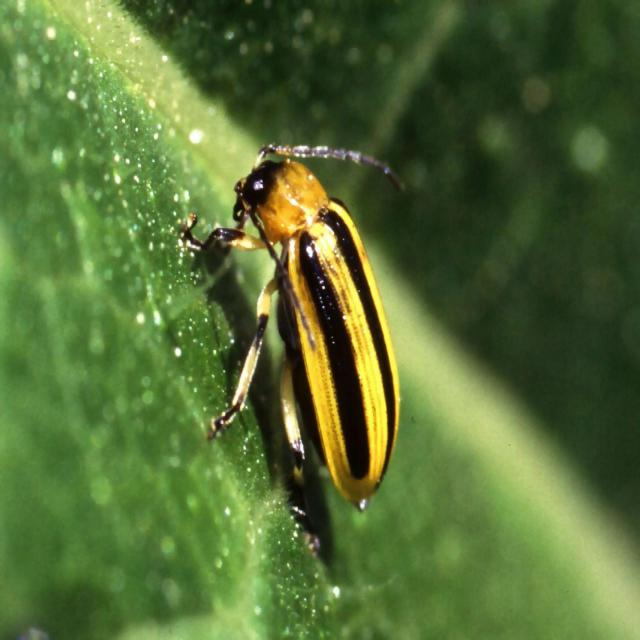cucumber_beetle: (174, 114, 416, 534)
